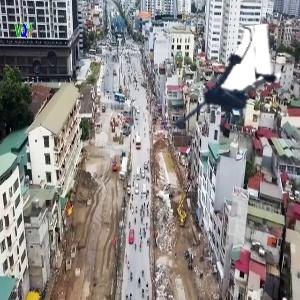drone: (154, 30, 286, 162)
